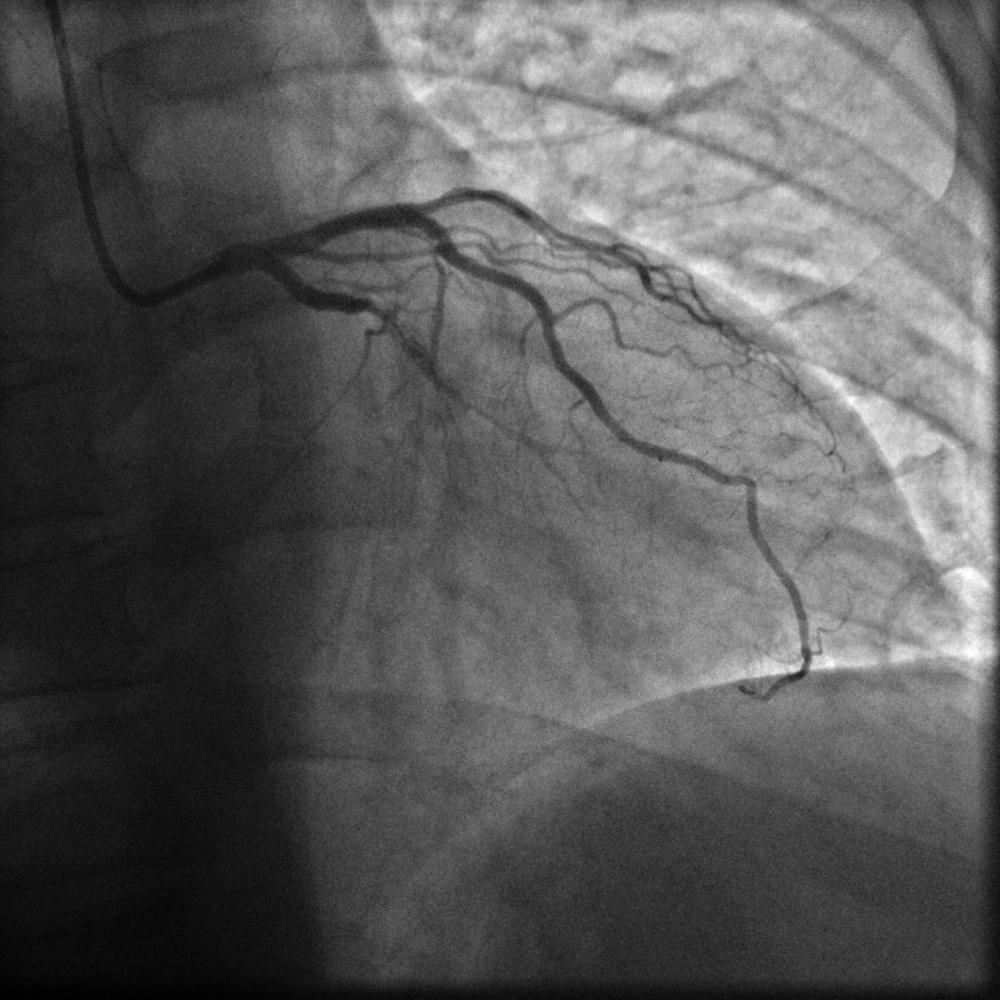Stenosis: (352, 295, 420, 351)
